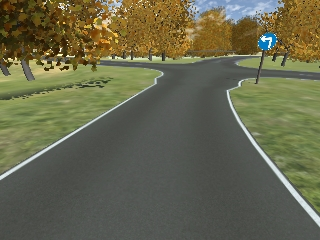left: (256, 31, 276, 50)
